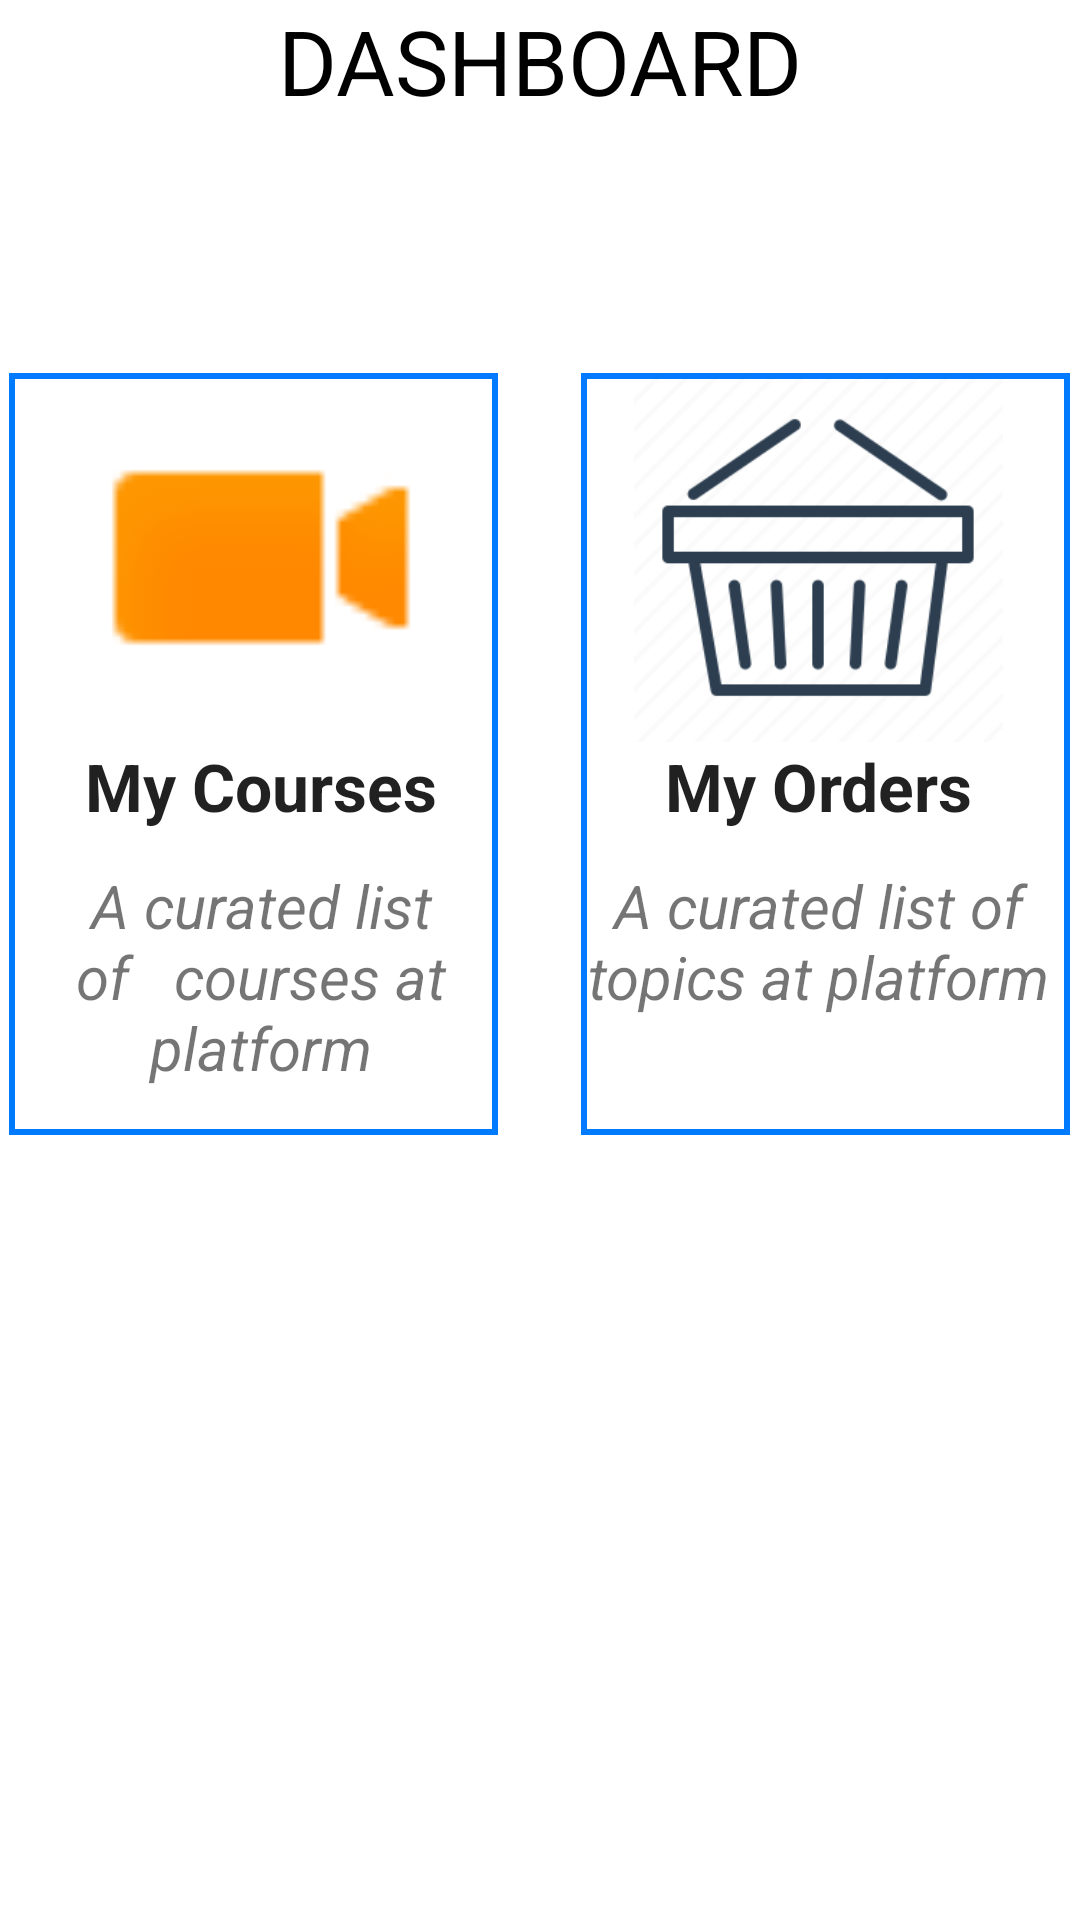

Named icons in this screenshot (1080 × 1920) and their centers, (x=x, y=y):
basket: (x=818, y=557)
